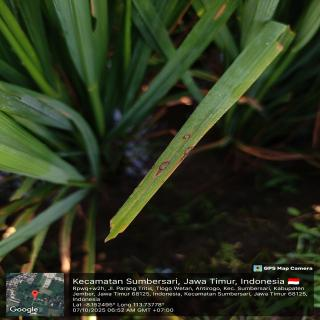Blast: (158, 158, 172, 174), (182, 144, 195, 154), (180, 132, 192, 142)
